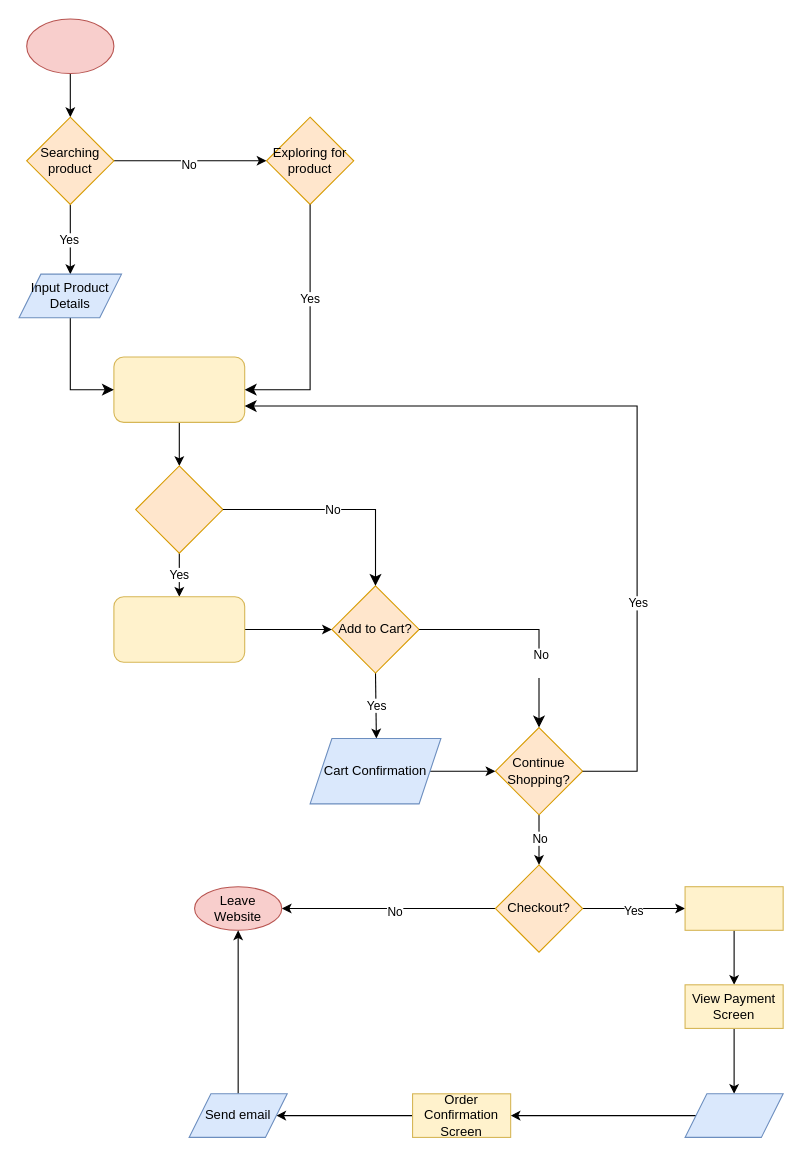
This 802x1158 diagram has some shape labels left out. Each missing label, with the centre of its shape:
Give payment info: (733,1115)
Looking Over Products: (179,389)
Product's Webpage Opens: (179,629)
Start: (70,46)
View Cart Screen: (733,908)
View Specific Product: (179,509)
